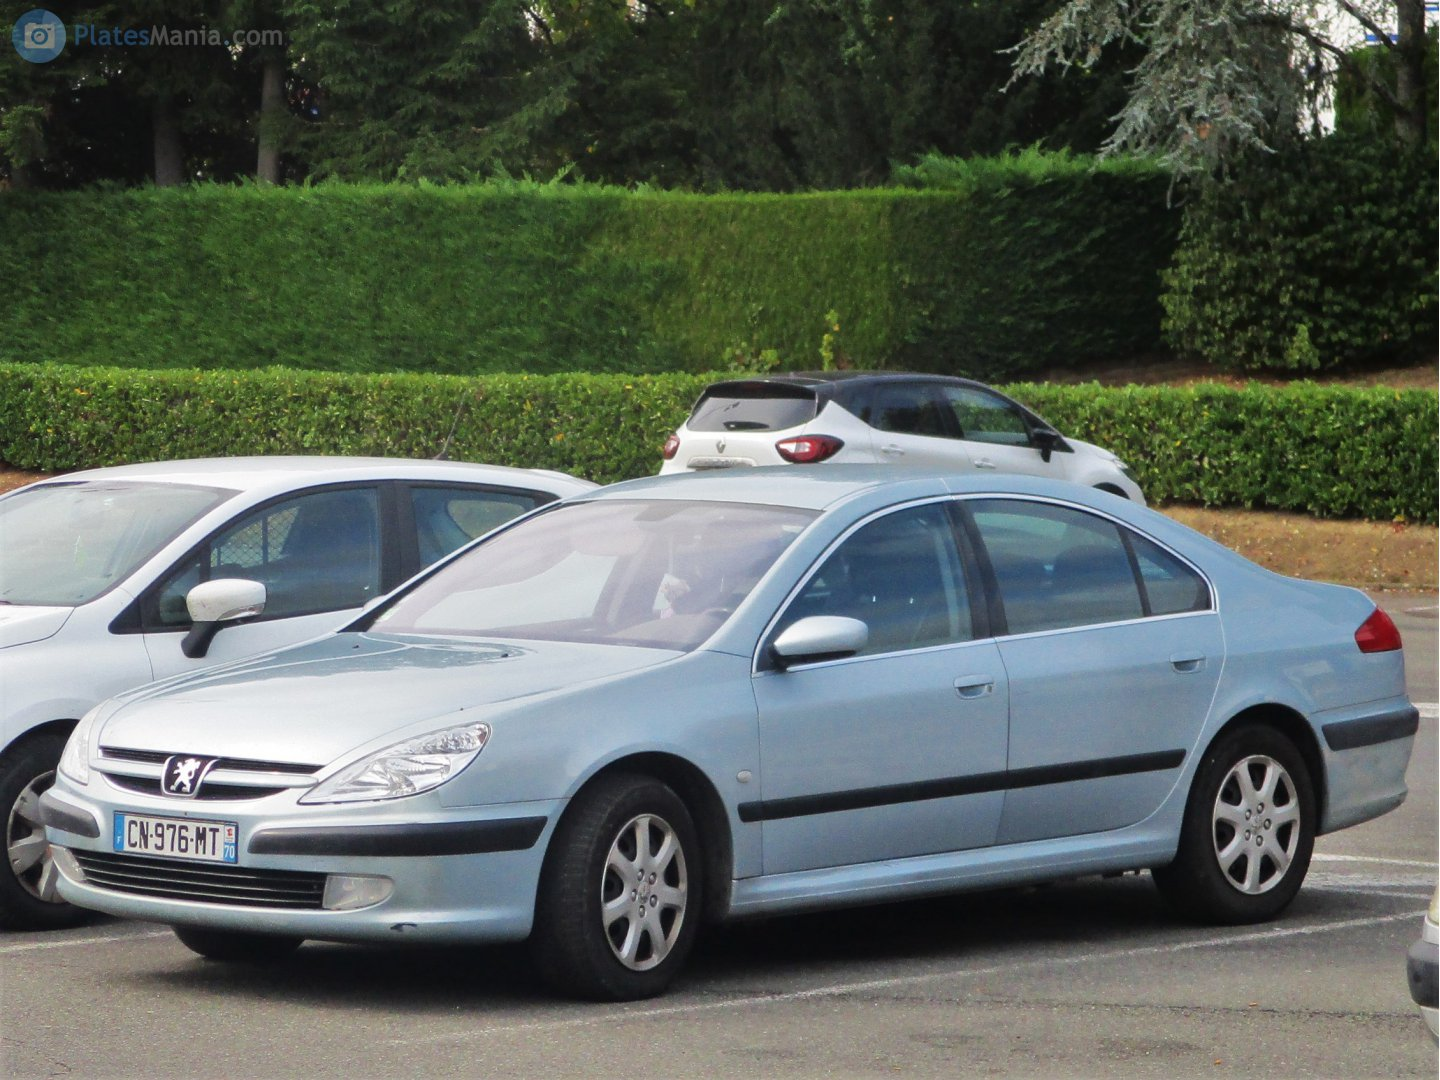licence plate: (106, 804, 245, 868)
